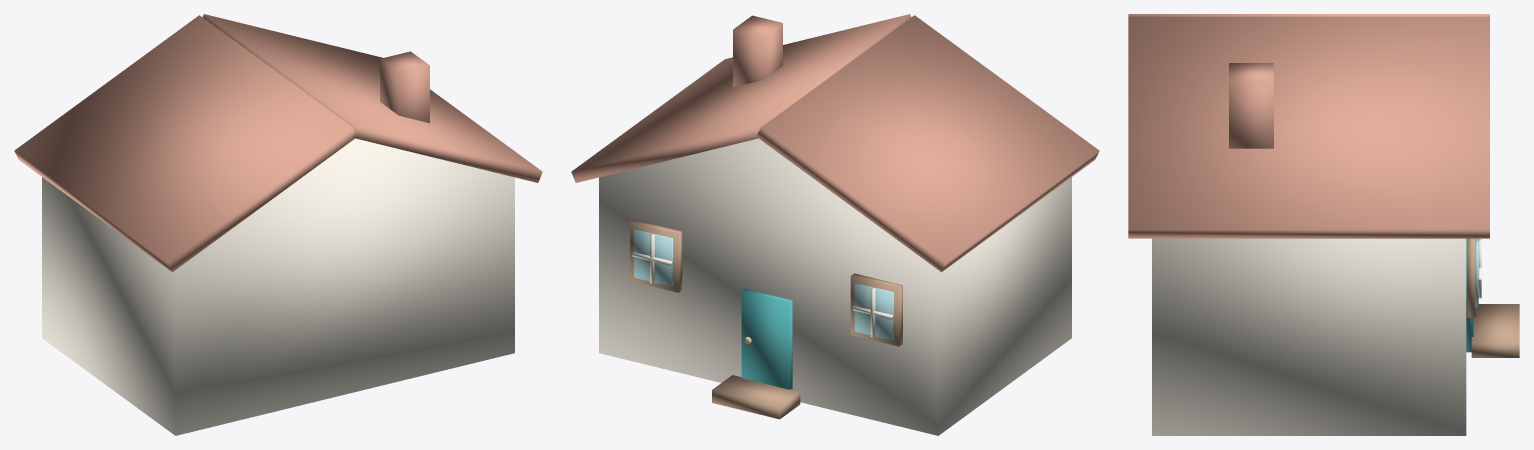
File: house_hall.glb
3 renders of one model, left to right at view 1: azimuth 30°, elevation 25°; view 2: azimuth 150°, elevation 25°; view 3: azimuth 270°, elevation 25°, orthographic. The views are drawn at different scales.
Parts seen in each view (by area): view 1: plaster_gable_walls, roof_slope_-1, roof_slope_1, chimney; view 2: plaster_gable_walls, roof_slope_-1, roof_slope_1, front_door, chimney, doorstep, window_glass_1, window_glass_0, window_frame_1, window_frame_0; view 3: roof_slope_1, plaster_gable_walls, chimney, doorstep, roof_slope_-1, window_frame_1, front_door.
Boxes of the visible parts, bbox=[...] form: plaster_gable_walls: bbox=[42, 138, 514, 435]; roof_slope_-1: bbox=[14, 15, 357, 272]; roof_slope_1: bbox=[202, 14, 542, 182]; chimney: bbox=[380, 51, 429, 123]; plaster_gable_walls: bbox=[599, 138, 1071, 435]; roof_slope_-1: bbox=[756, 15, 1099, 272]; roof_slope_1: bbox=[571, 14, 911, 182]; front_door: bbox=[741, 288, 792, 389]; chimney: bbox=[733, 15, 782, 87]; doorstep: bbox=[712, 375, 800, 419]; window_glass_1: bbox=[634, 229, 673, 286]; window_glass_0: bbox=[854, 283, 893, 340]; window_frame_1: bbox=[630, 219, 682, 292]; window_frame_0: bbox=[850, 273, 902, 346]; roof_slope_1: bbox=[1128, 16, 1489, 238]; plaster_gable_walls: bbox=[1152, 238, 1466, 435]; chimney: bbox=[1229, 63, 1273, 148]; doorstep: bbox=[1471, 304, 1519, 357]; roof_slope_-1: bbox=[1128, 14, 1489, 16]; window_frame_1: bbox=[1467, 238, 1475, 317]; front_door: bbox=[1466, 238, 1473, 352].
Bounding box in the file's own units: 4.86 × 3.42 × 3.74.
